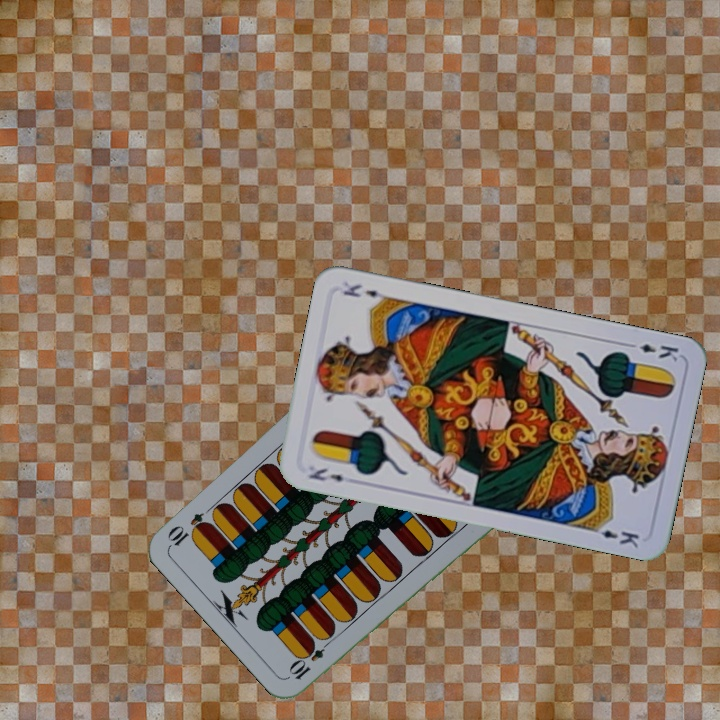E10: (286, 634, 335, 683)
EK: (623, 338, 681, 364), (304, 463, 346, 485)
